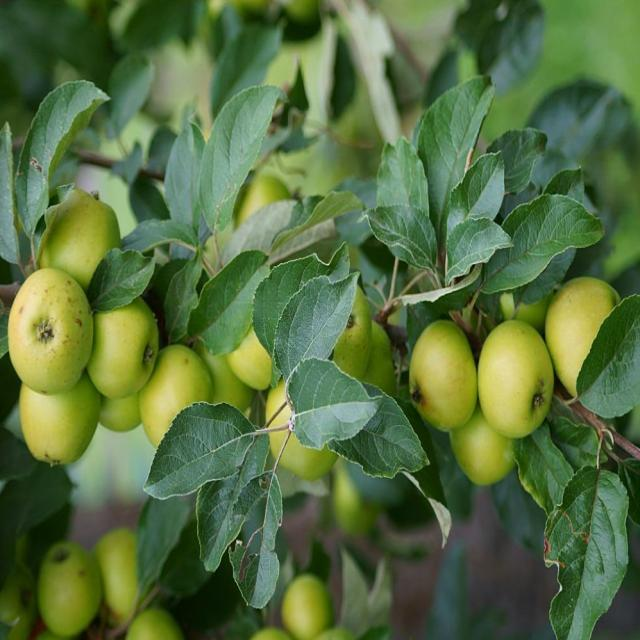Green Apple: (10, 273, 93, 388), (545, 278, 624, 396), (20, 347, 95, 461), (479, 314, 552, 428), (81, 290, 159, 393), (45, 183, 119, 280), (413, 318, 475, 429), (143, 333, 206, 439), (36, 535, 97, 630), (268, 376, 328, 468), (88, 528, 146, 619), (230, 299, 281, 399), (454, 401, 507, 481), (90, 366, 148, 439), (318, 282, 366, 367), (199, 343, 250, 423), (356, 318, 408, 394), (330, 461, 379, 534), (237, 171, 291, 233), (485, 273, 540, 333), (285, 569, 333, 634), (125, 594, 182, 640), (2, 568, 36, 640), (244, 626, 303, 640), (30, 626, 86, 640), (310, 621, 347, 640)
